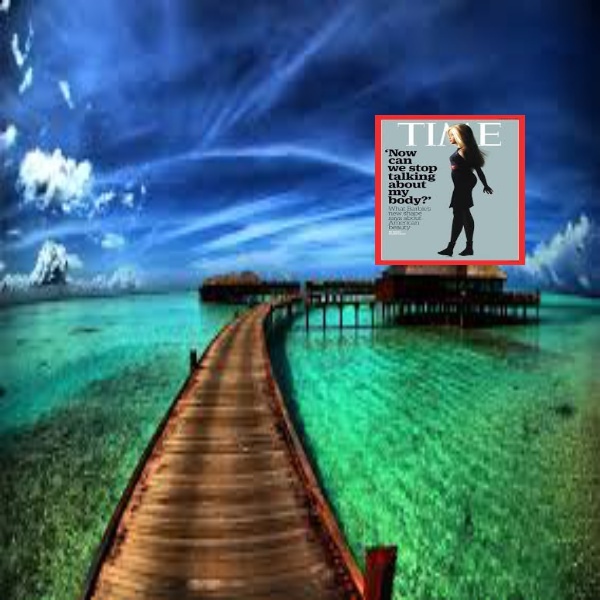time_cover: (367, 110, 521, 268)
